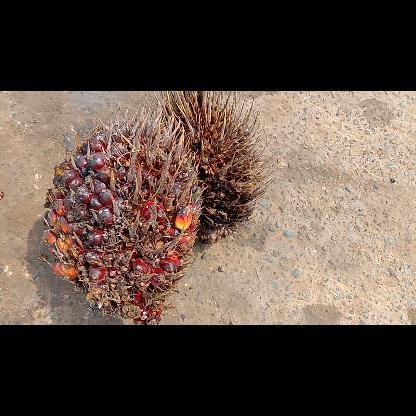Janjang kosong: (146, 91, 276, 243)
TBS masak: (42, 102, 206, 324)
